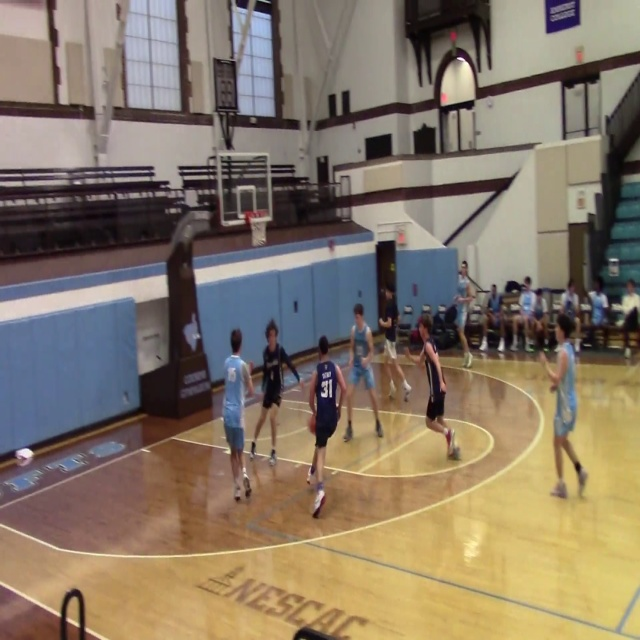Basketball: (15, 448, 34, 460), (308, 414, 316, 434)
